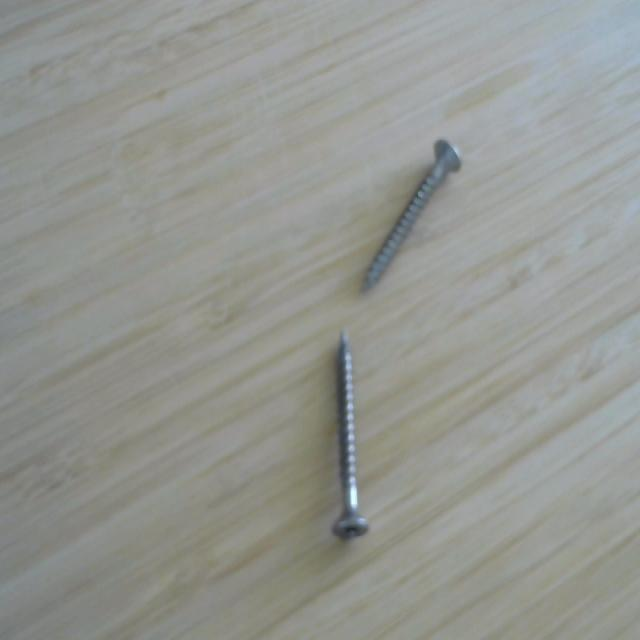Black screw: (357, 127, 470, 299), (321, 323, 376, 544)
